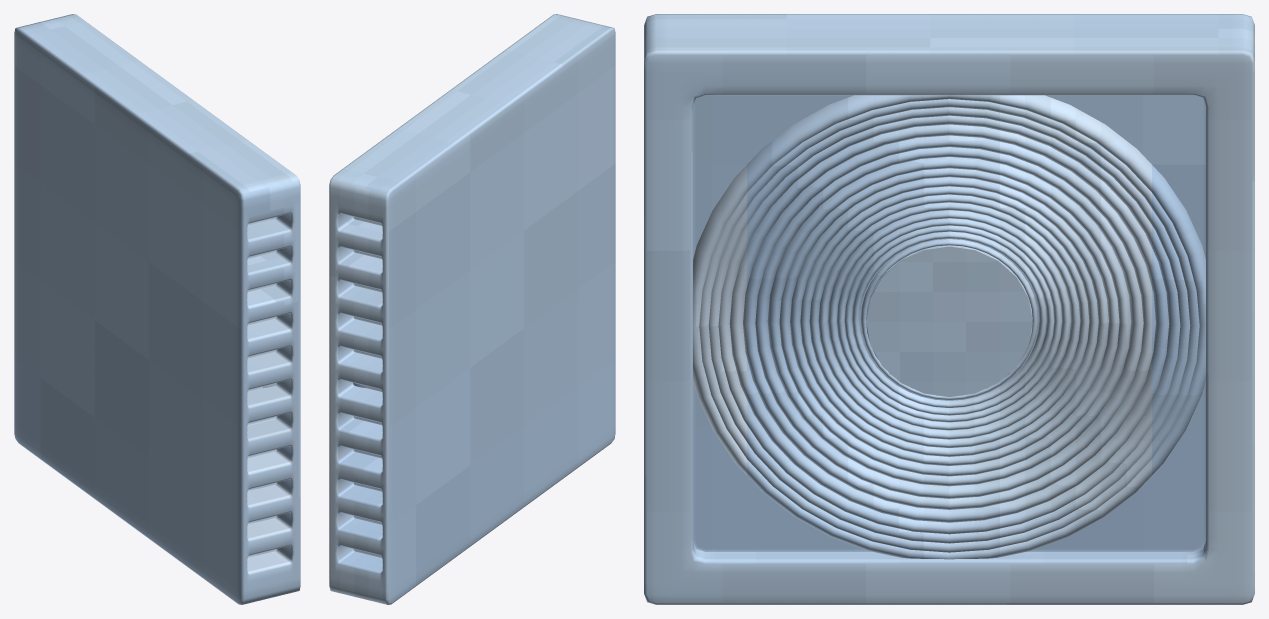
File: air_vent.glb
The picture shows the model from 3 angles, left to right: view 1: azimuth 30°, elevation 25°; view 2: azimuth 150°, elevation 25°; view 3: azimuth 270°, elevation 25°; orthographic projection. The views are drawn at different scales.
Visible parts, largest first — view 1: pTorus22; view 2: pTorus22; view 3: pTorus22.
Part boxes in pixels (x1=…): pTorus22: x1=14, y1=14, x2=300, y2=604; pTorus22: x1=329, y1=14, x2=615, y2=604; pTorus22: x1=644, y1=14, x2=1254, y2=604.
Size of the model in its own units: 0.2304 by 1.51 by 1.51.
1 material, 1 textured.
